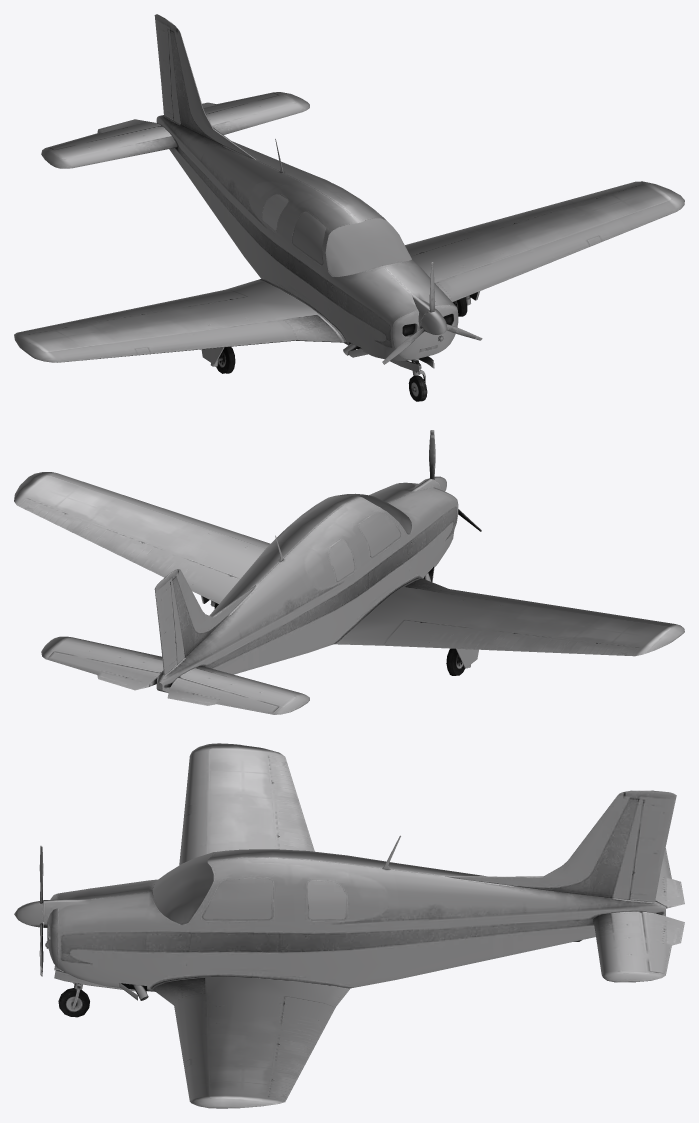
The picture shows the model from 3 angles, top to bottom: view 1: azimuth 30°, elevation 25°; view 2: azimuth 150°, elevation 25°; view 3: azimuth 270°, elevation 25°; orthographic projection. The views are drawn at different scales.
Parts seen in each view (by area): view 1: Object_6, Object_4; view 2: Object_6, Object_4; view 3: Object_6, Object_4.
Part boxes in pixels (left/top/right/bottom): Object_6: left=14, top=14, right=684, bottom=401; Object_4: left=261, top=194, right=411, bottom=276; Object_6: left=14, top=430, right=684, bottom=714; Object_4: left=274, top=493, right=411, bottom=582; Object_6: left=14, top=743, right=684, bottom=1108; Object_4: left=152, top=852, right=346, bottom=924.
Size of the model in its own units: 9.24 by 2.66 by 7.2.
2 materials, 2 textured.
